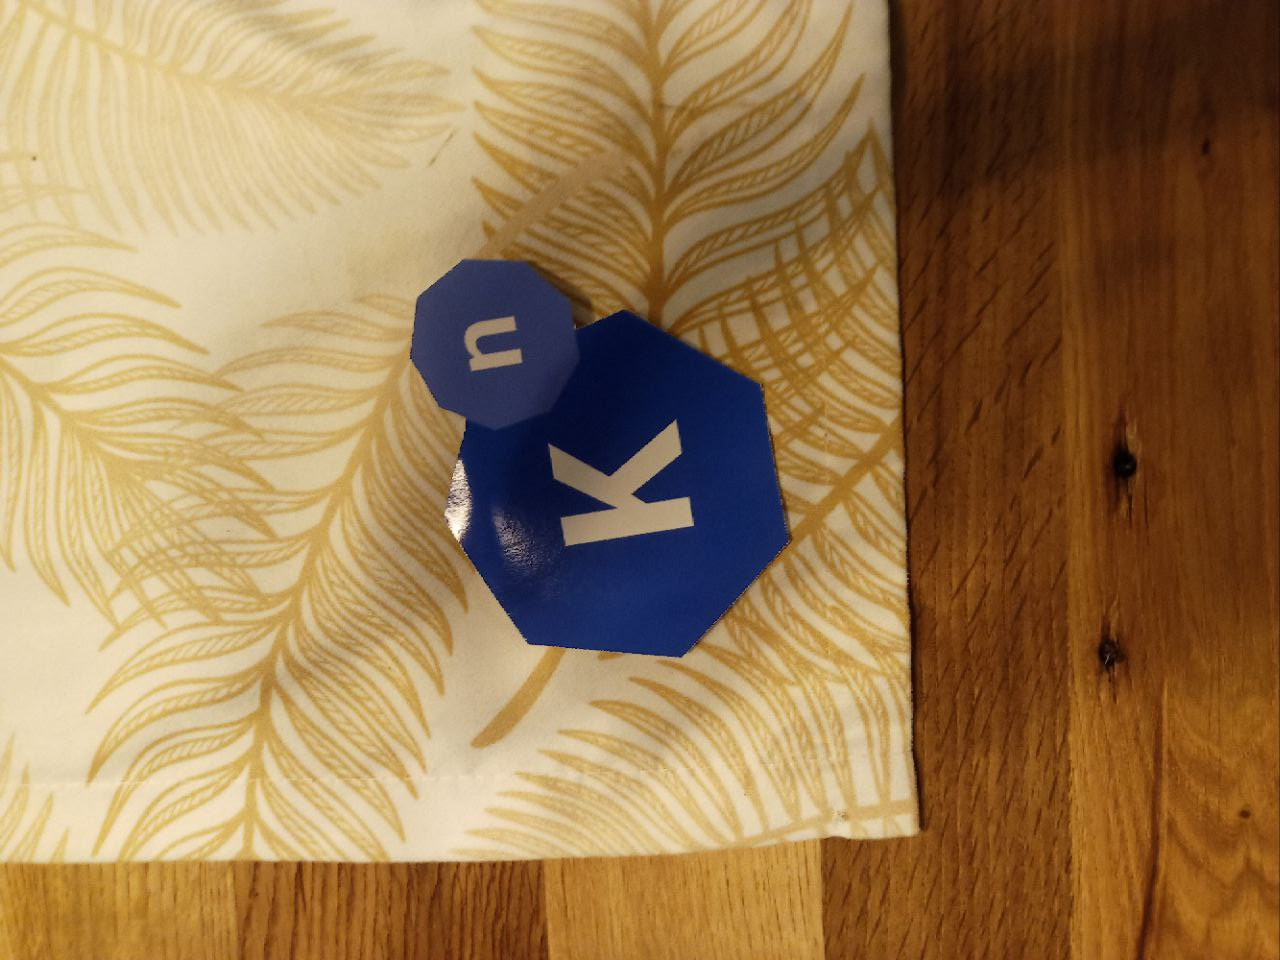knative: (408, 258, 799, 659)
